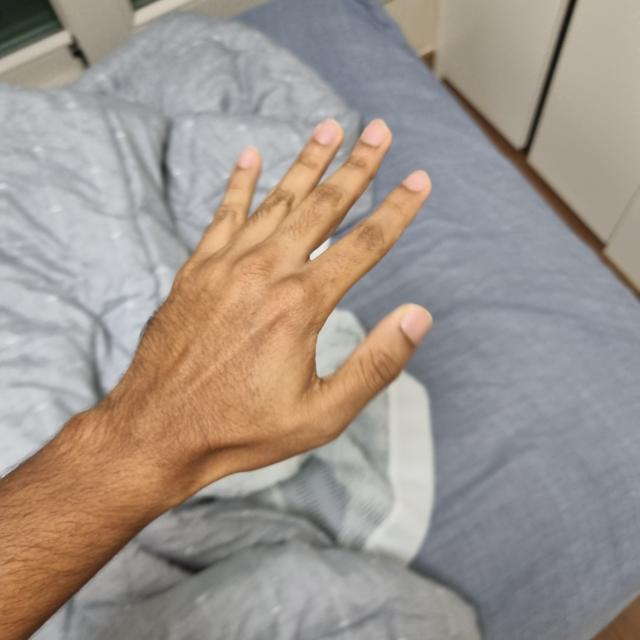Paper: (108, 122, 432, 490)
